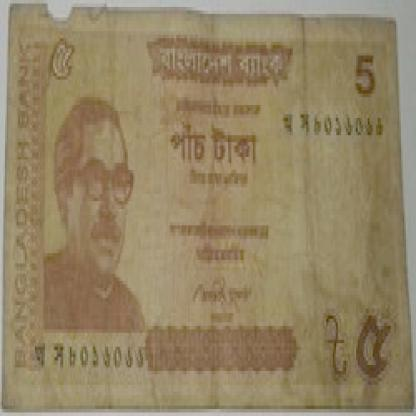Five Taka: (163, 114, 261, 174), (354, 302, 393, 392), (43, 28, 88, 90), (348, 42, 381, 108)
